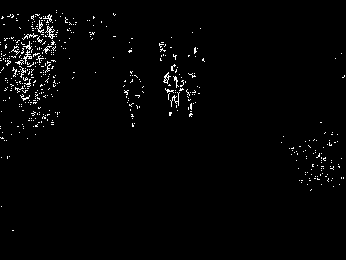person: (123, 69, 145, 129), (160, 64, 184, 117)
